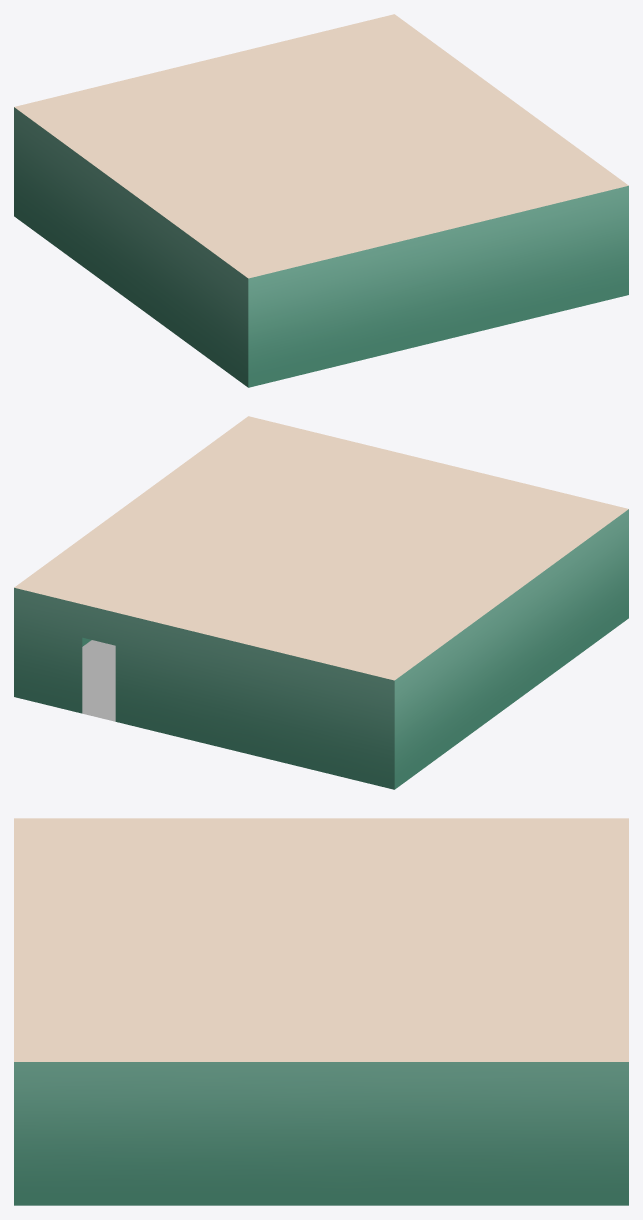
Rendered from Kitchen_Room.fbx.
The picture shows the model from 3 angles, top to bottom: view 1: azimuth 30°, elevation 25°; view 2: azimuth 150°, elevation 25°; view 3: azimuth 270°, elevation 25°; orthographic projection. The views are drawn at different scales.
Parts seen in each view (by area): view 1: Kitchen_Room; view 2: Kitchen_Room; view 3: Kitchen_Room.
Boxes of the visible parts, x1,y1,x2,y2 form: Kitchen_Room: (14, 14, 628, 387); Kitchen_Room: (14, 416, 628, 789); Kitchen_Room: (14, 818, 628, 1205).
Size of the model in its own units: 914 by 251 by 975.
Materials: 2 (1 with a texture image).
